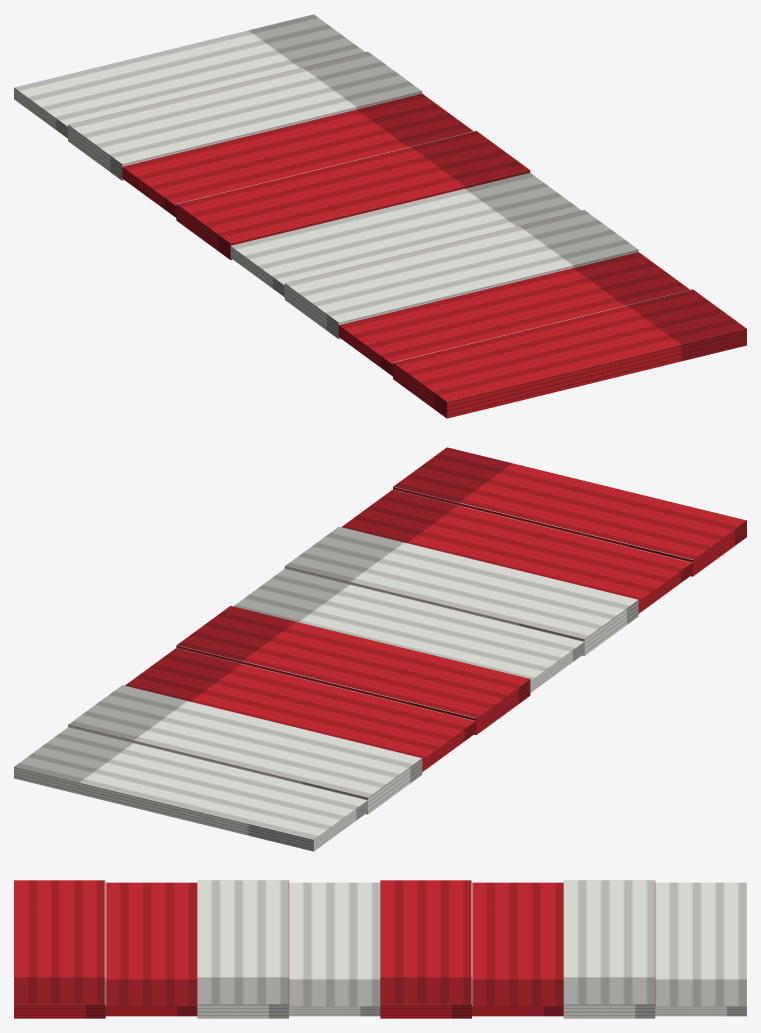
The model's file is kerb_3d_4m.glb.
3 renders of one model, top to bottom at view 1: azimuth 30°, elevation 25°; view 2: azimuth 150°, elevation 25°; view 3: azimuth 270°, elevation 25°, orthographic. The views are drawn at different scales.
Visible parts, largest first — view 1: kerb3d; view 2: kerb3d; view 3: kerb3d.
Boxes of the visible parts, box(x1,y1,x2,y2) form: kerb3d: box(14, 14, 746, 418); kerb3d: box(14, 447, 746, 851); kerb3d: box(14, 880, 746, 1018).
Bounding box in the file's own units: 1.6 × 0.085 × 4.
Materials: 1 (1 with a texture image).
